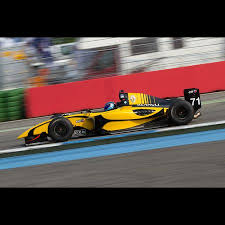f1_car: (14, 80, 211, 155)
